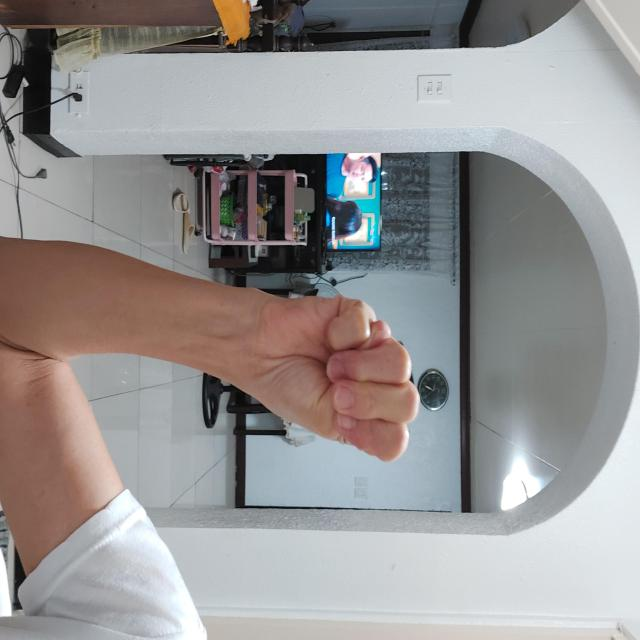M: (288, 220, 462, 396)
